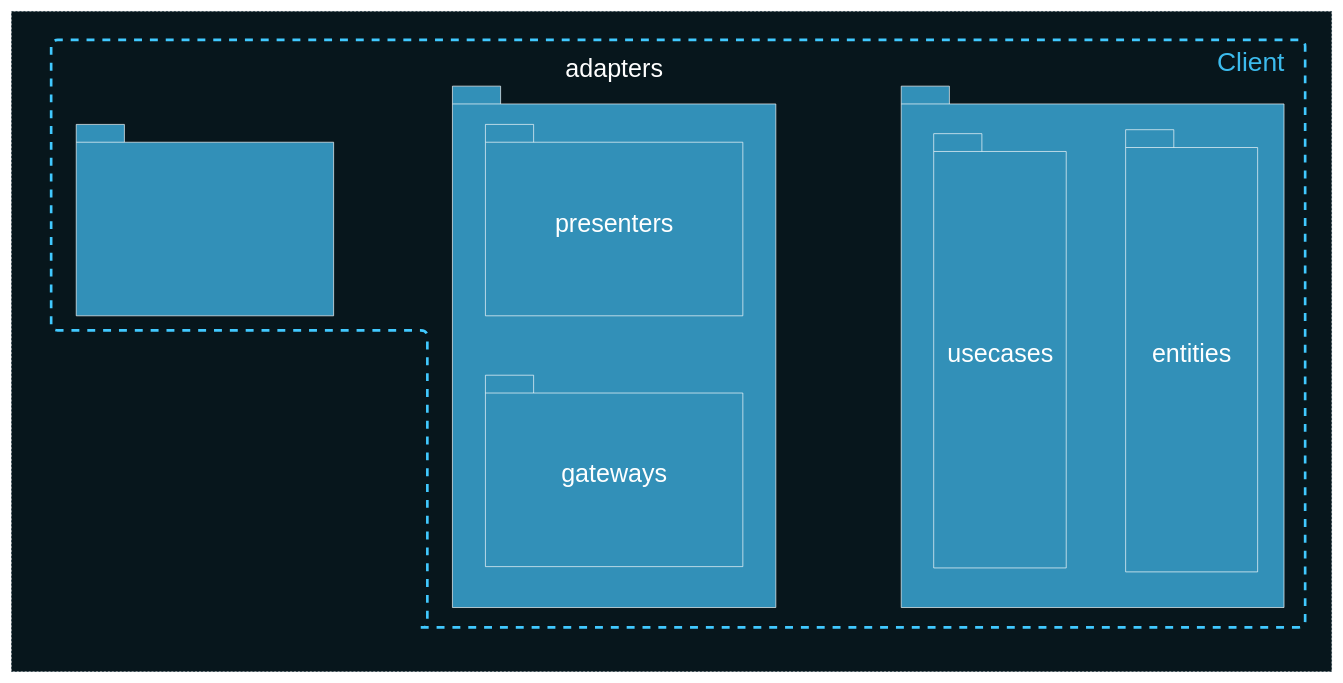
The diagram is 1343 pixels wide and 683 high, and some of its shapes have lost their labels. Here are the shapes that lost their labels. From the top down, the box of each, then its label:
(76, 124, 334, 316): ui
(901, 85, 1284, 608): domain
